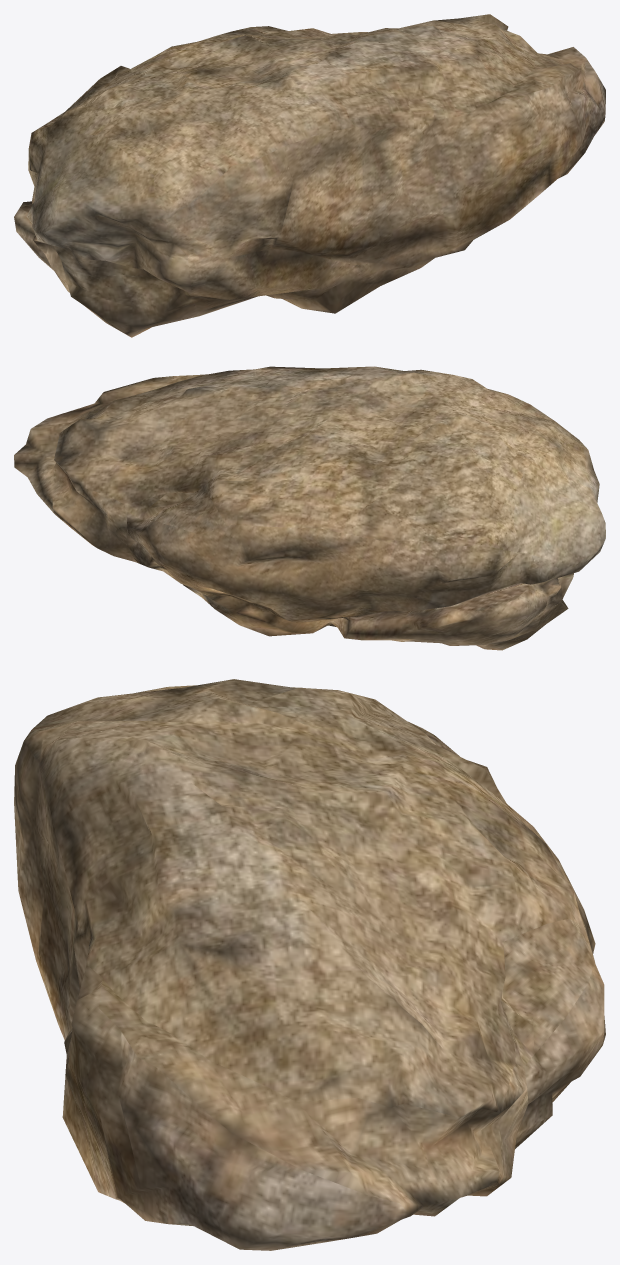
Rendered from rock-boulder-05.glb.
The picture shows the model from 3 angles, top to bottom: view 1: azimuth 30°, elevation 25°; view 2: azimuth 150°, elevation 25°; view 3: azimuth 270°, elevation 25°; orthographic projection. The views are drawn at different scales.
Parts seen in each view (by area): view 1: namaqualand_boulder_05; view 2: namaqualand_boulder_05; view 3: namaqualand_boulder_05.
Boxes of the visible parts, x1,y1,x2,y2 form: namaqualand_boulder_05: [14, 14, 605, 337]; namaqualand_boulder_05: [14, 366, 605, 650]; namaqualand_boulder_05: [14, 679, 605, 1250].
Size of the model in its own units: 1.36 by 0.5337 by 0.7411.
Materials: 1 (1 with a texture image).
